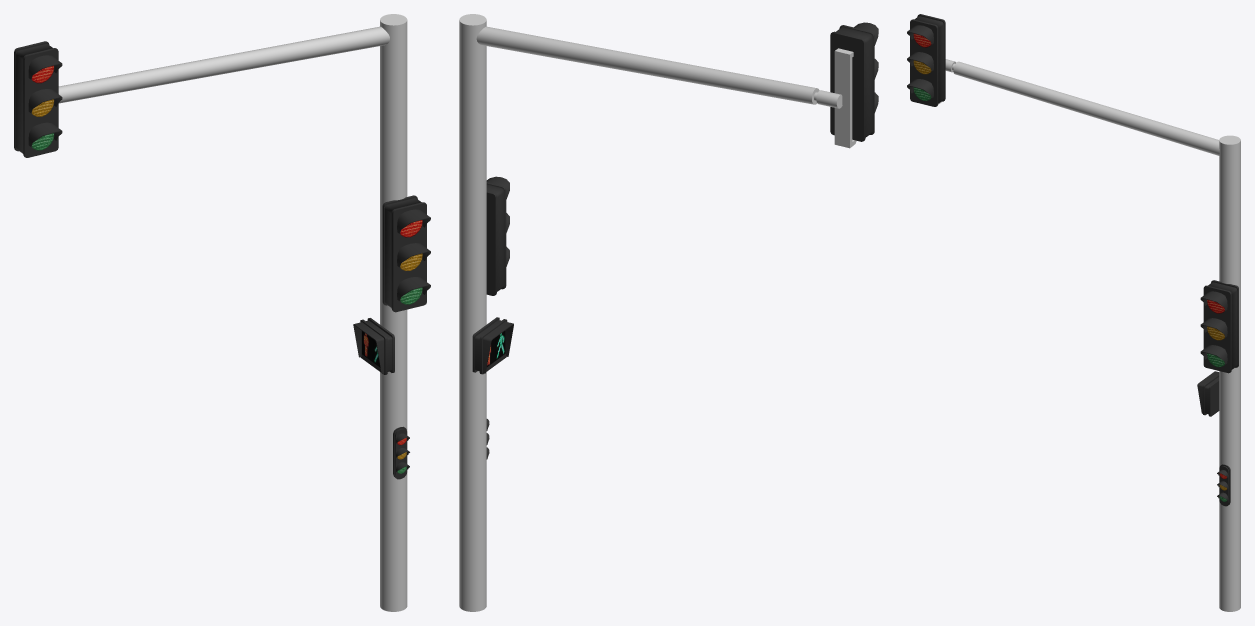
File: sweethome3d-scopia-traffic-light-453.glb
The picture shows the model from 3 angles, left to right: view 1: azimuth 30°, elevation 25°; view 2: azimuth 150°, elevation 25°; view 3: azimuth 330°, elevation 25°; orthographic projection. The views are drawn at different scales.
Visible parts, largest first — view 1: Pole_Cylinder.001, 3LightsMiddleBox_Cube.002, 3LightsTopBox_Cube.003, 2LightsPedestrian_Cube.005, 3LightsLittleBox_Cube.001; view 2: Pole_Cylinder.001, 3LightsTopBox_Cube.003, 3LightsMiddleBox_Cube.002, 2LightsPedestrian_Cube.005; view 3: Pole_Cylinder.001, 3LightsTopBox_Cube.003, 3LightsMiddleBox_Cube.002, 2LightsPedestrian_Cube.005, 3LightsLittleBox_Cube.001.
Boxes of the visible parts, x1,y1,x2,y2 form: Pole_Cylinder.001: [58, 14, 407, 611]; 3LightsMiddleBox_Cube.002: [382, 195, 430, 312]; 3LightsTopBox_Cube.003: [14, 41, 62, 157]; 2LightsPedestrian_Cube.005: [353, 318, 394, 374]; 3LightsLittleBox_Cube.001: [393, 426, 409, 479]; Pole_Cylinder.001: [459, 14, 856, 611]; 3LightsTopBox_Cube.003: [830, 22, 878, 141]; 3LightsMiddleBox_Cube.002: [486, 176, 509, 295]; 2LightsPedestrian_Cube.005: [472, 317, 513, 374]; Pole_Cylinder.001: [938, 59, 1240, 611]; 3LightsTopBox_Cube.003: [907, 14, 945, 106]; 3LightsMiddleBox_Cube.002: [1200, 280, 1238, 373]; 2LightsPedestrian_Cube.005: [1197, 371, 1219, 416]; 3LightsLittleBox_Cube.001: [1217, 464, 1230, 506].
Size of the model in its own units: 321 by 499 by 56.4.
Materials: 20 (15 with a texture image).
